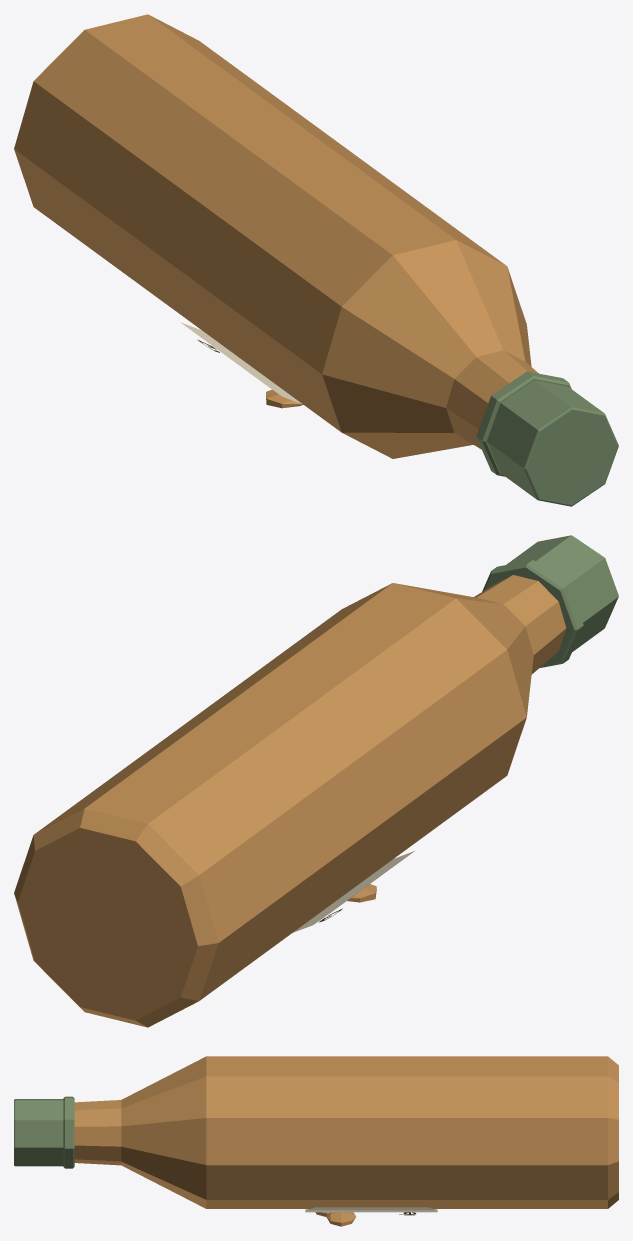
The model's file is ginger_ale.glb.
3 renders of one model, top to bottom at view 1: azimuth 30°, elevation 25°; view 2: azimuth 150°, elevation 25°; view 3: azimuth 270°, elevation 25°, orthographic. The views are drawn at different scales.
Visible parts, largest first — view 1: ginger_ale; view 2: ginger_ale; view 3: ginger_ale.
Part boxes in pixels (x1,y1,x2,y2): ginger_ale: (14,14,618,506); ginger_ale: (14,535,618,1027); ginger_ale: (14,1056,618,1226).
Bounding box in the file's own units: 0.056 × 0.0583 × 0.22.
